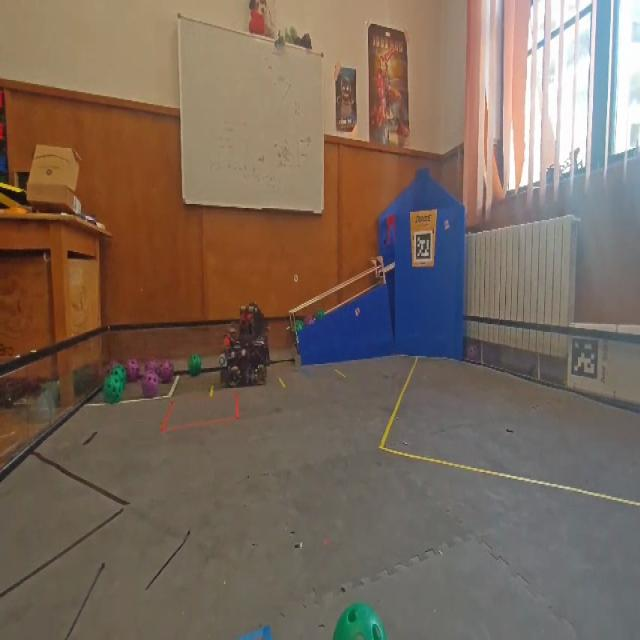artifact_green: (333, 603, 386, 639), (103, 375, 124, 403), (110, 364, 127, 387), (188, 355, 202, 377), (105, 362, 119, 378), (117, 376, 125, 395), (305, 315, 315, 326), (119, 379, 125, 394), (296, 320, 304, 331), (315, 310, 324, 319)
artifact_purple: (141, 371, 159, 398), (159, 360, 173, 383), (126, 359, 140, 382), (105, 362, 119, 377), (145, 359, 159, 374), (305, 315, 314, 326)
